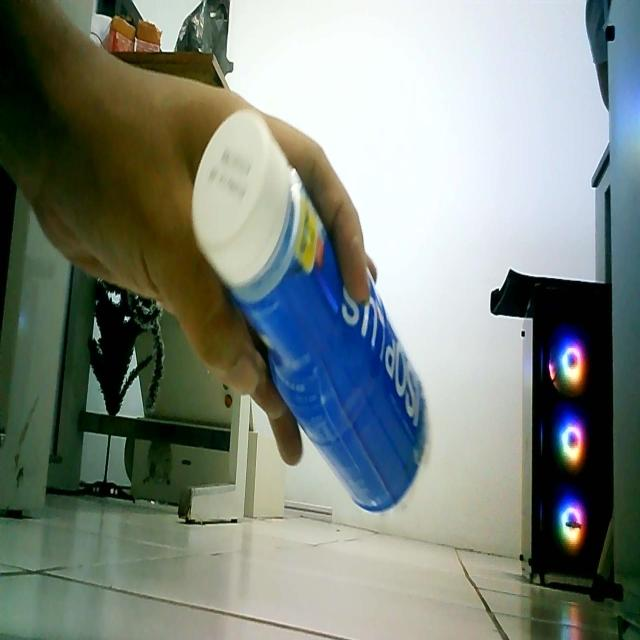botol: (168, 69, 446, 544)
